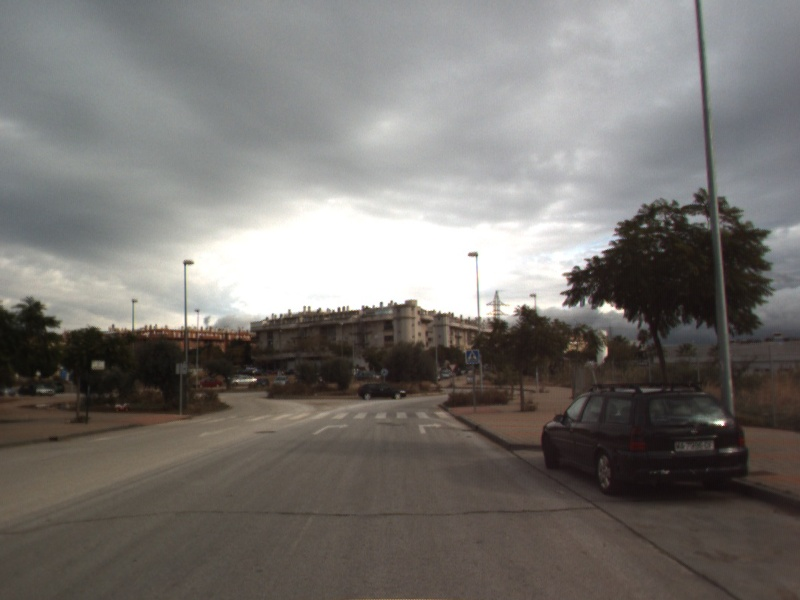RIGHT: (311, 421, 351, 437), (416, 420, 444, 435)
